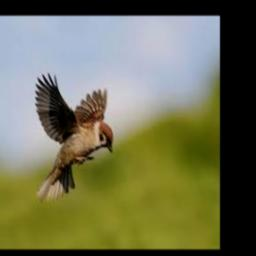Sparrow: (36, 73, 114, 203)
